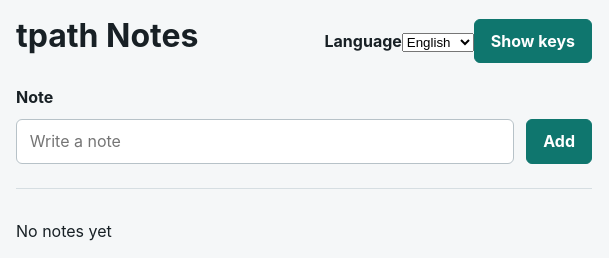
Scenario: react-simple example › switches between nested translation dictionaries
This screenshot has width=609, height=258.
Expected: the heading "tpath Notes" is shown, left=16, top=16, right=198, bottom=55
Expected: the field labelled "Note" is shown, left=16, top=119, right=514, bottom=164
Select "Русский" in the dropdown labelled "Language": (438, 42) left=402, top=33, right=474, bottom=52
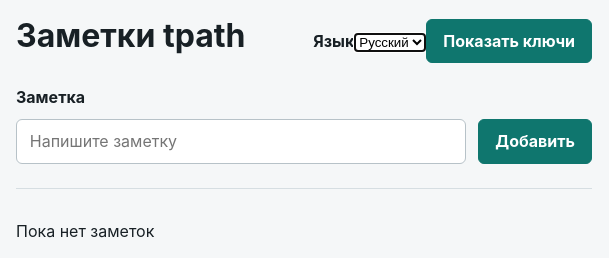
Expected: the field labelled "Заметка" is shown, left=16, top=119, right=466, bottom=164
Expected: the heading "Заметки tpath" is shown, left=16, top=16, right=246, bottom=55
Expected: the text "Пока нет заметок" is shown, left=16, top=221, right=154, bottom=241
